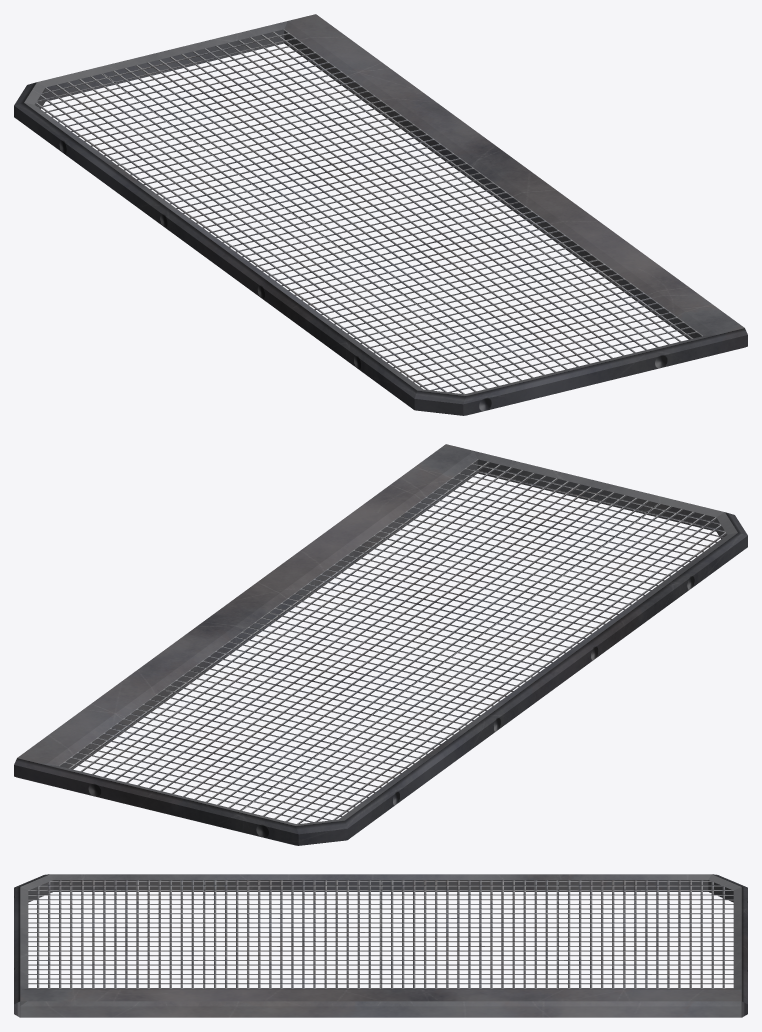
File: Incinerator_Ledge_Platform.fbx
The picture shows the model from 3 angles, top to bottom: view 1: azimuth 30°, elevation 25°; view 2: azimuth 150°, elevation 25°; view 3: azimuth 270°, elevation 25°; orthographic projection. The views are drawn at different scales.
Parts seen in each view (by area): view 1: Incinerator_Ledge_Platform; view 2: Incinerator_Ledge_Platform; view 3: Incinerator_Ledge_Platform.
Part boxes in pixels (x1,y1,x2,y2): Incinerator_Ledge_Platform: [14, 14, 747, 415]; Incinerator_Ledge_Platform: [14, 444, 747, 845]; Incinerator_Ledge_Platform: [14, 874, 747, 1017].
Size of the model in its own units: 0.3732 by 0.0221 by 0.8919.
